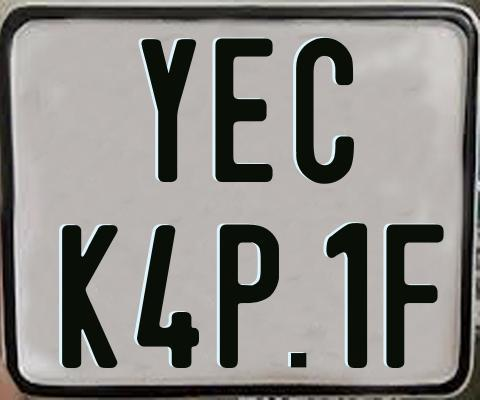1: (326, 220, 369, 366)
4: (134, 224, 199, 372)
C: (296, 35, 358, 187)
E: (212, 36, 272, 181)
F: (386, 224, 445, 372)
K: (59, 223, 116, 369)
P: (219, 222, 284, 372)
Y: (140, 39, 198, 182)
